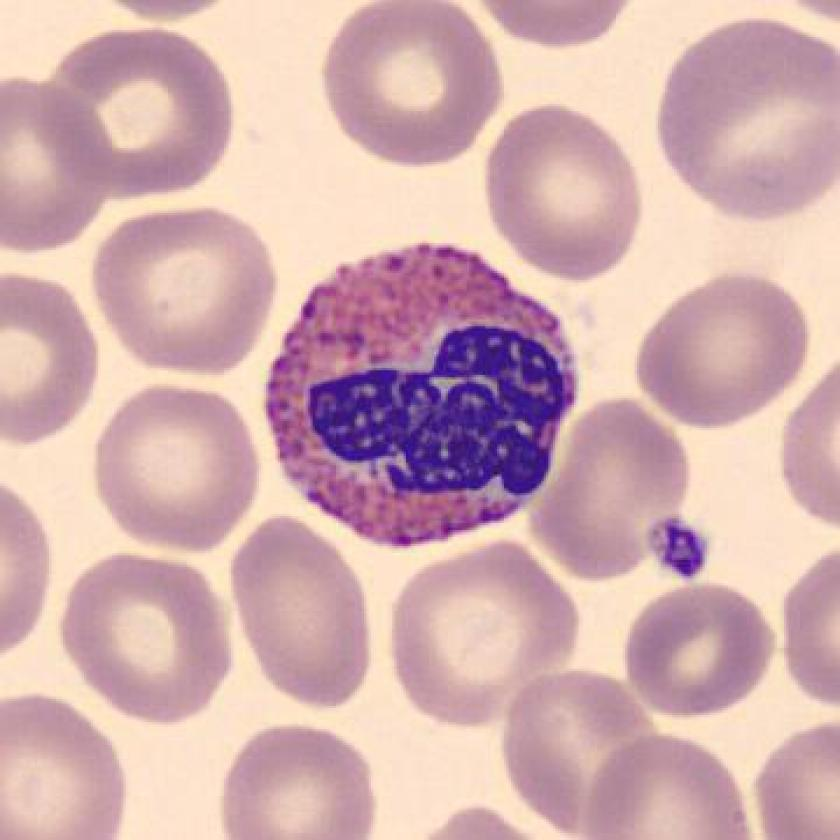eosinophil: (248, 235, 589, 563)
